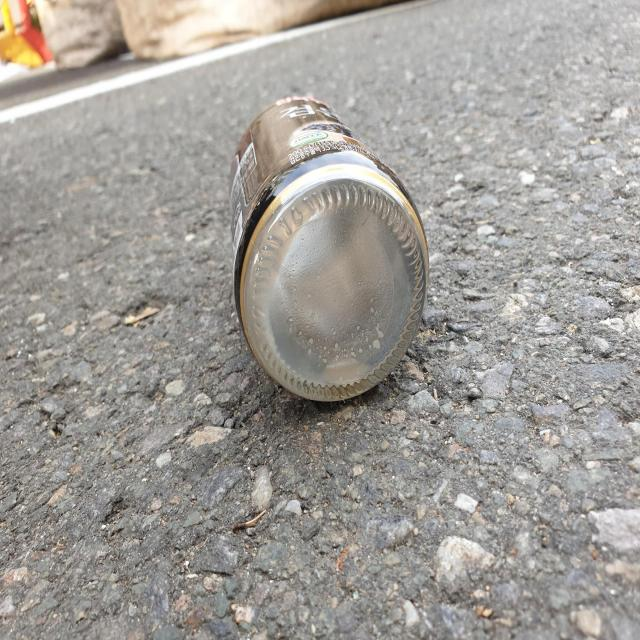glass: (230, 95, 429, 401)
